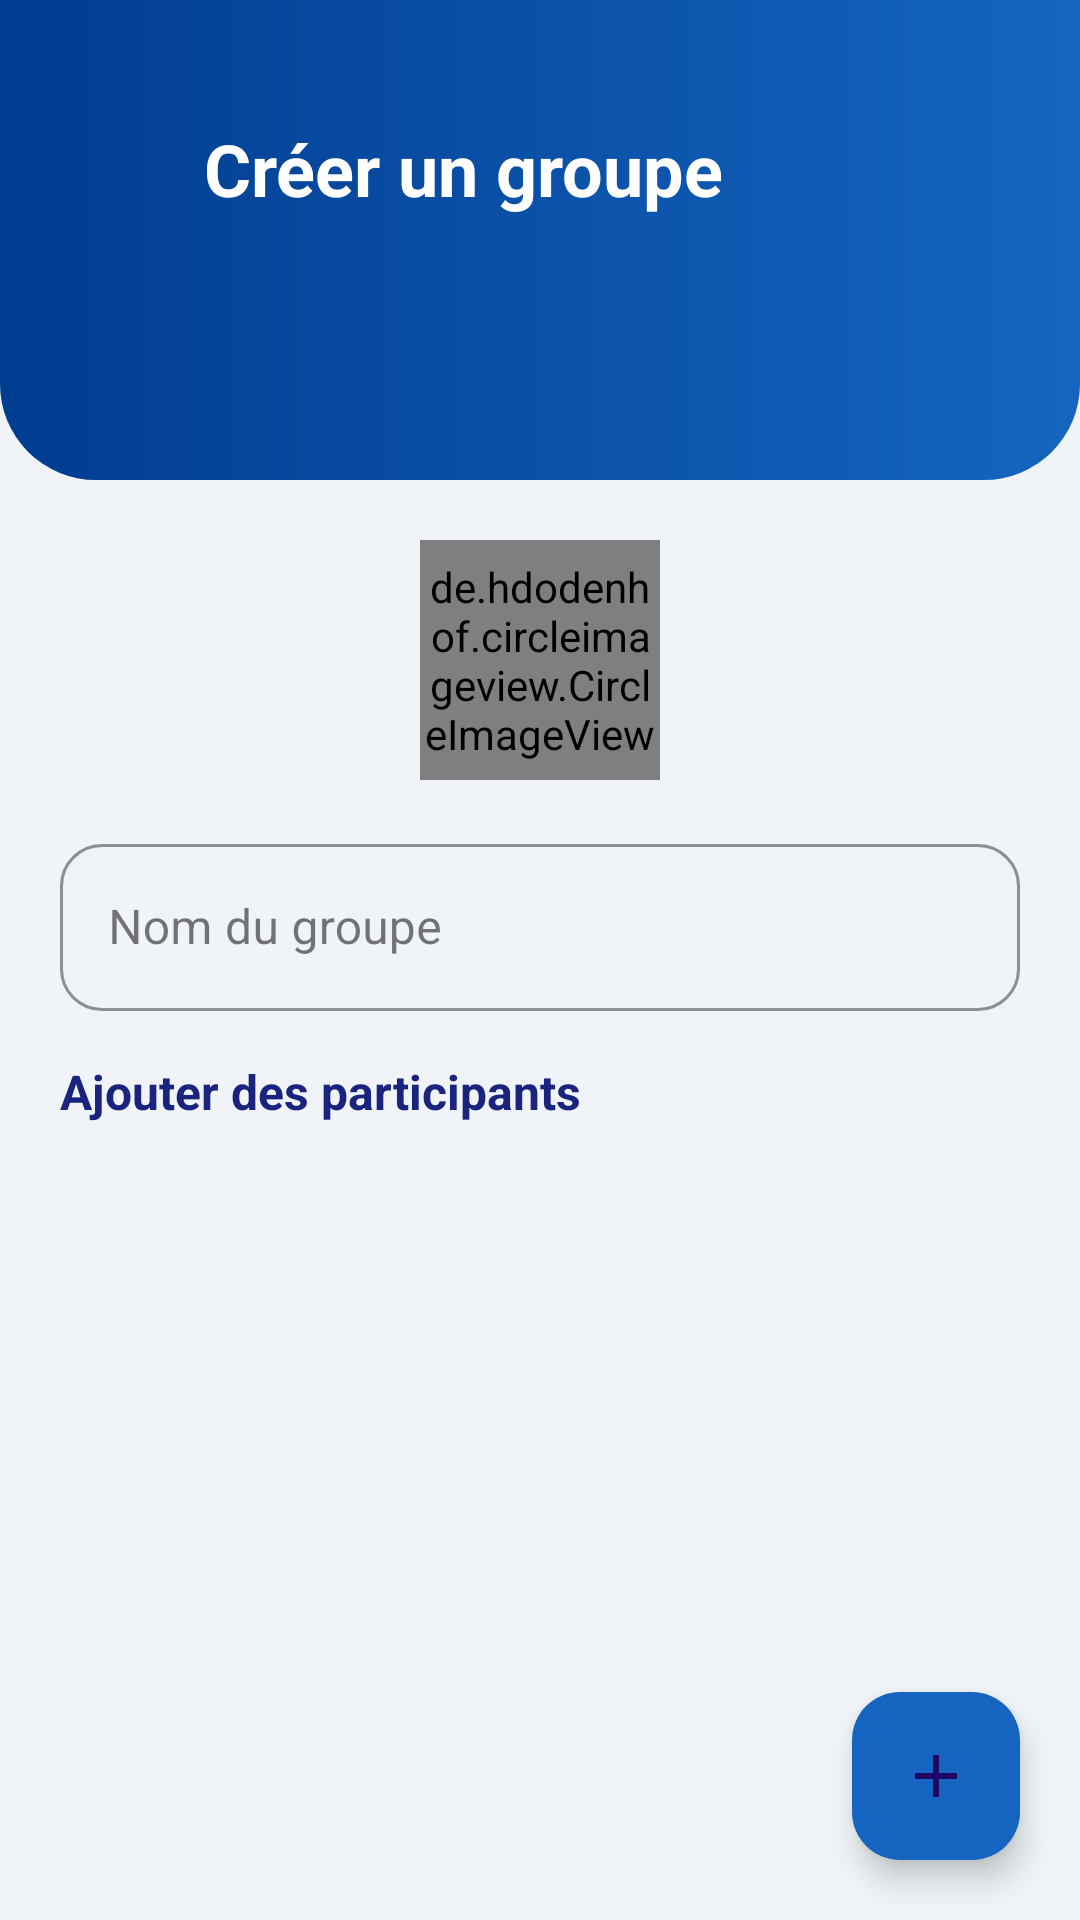

Icons on this 1080×1920 Android screen, each with the point to tap as (x=x, y=y):
plus: (x=936, y=1776)
